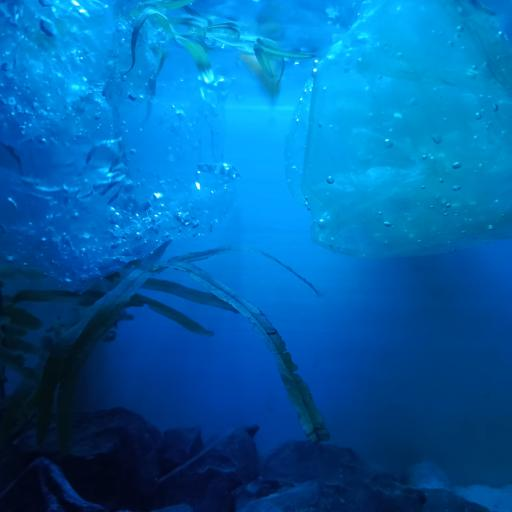plastic_bag: (0, 2, 240, 282), (282, 0, 512, 257)
